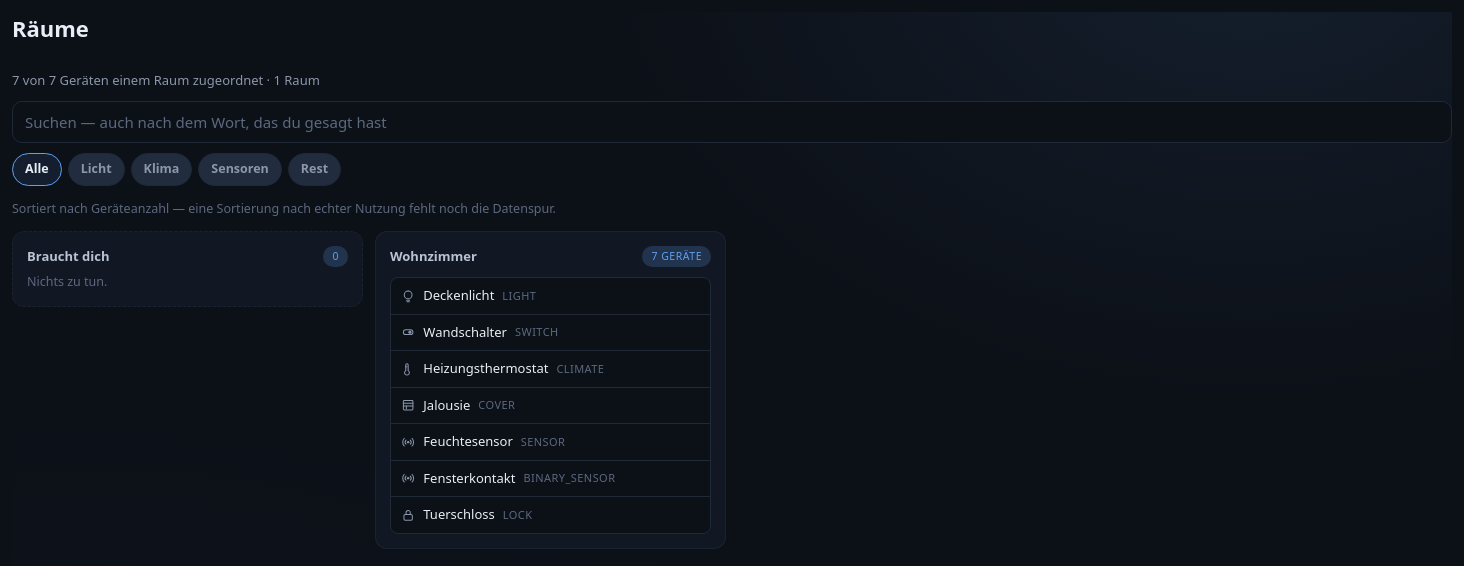
Scenario: RaeumeView — Domänen-Chips filtern die Raum-Karten (kein zweiter Baum, nur ein Prädikat) › „Licht": nur das Licht-Gerät, switch/climate/… fallen raus
Click the button with class "rooms__chip" showing "Licht" at (96, 169), box [68,153,125,186]
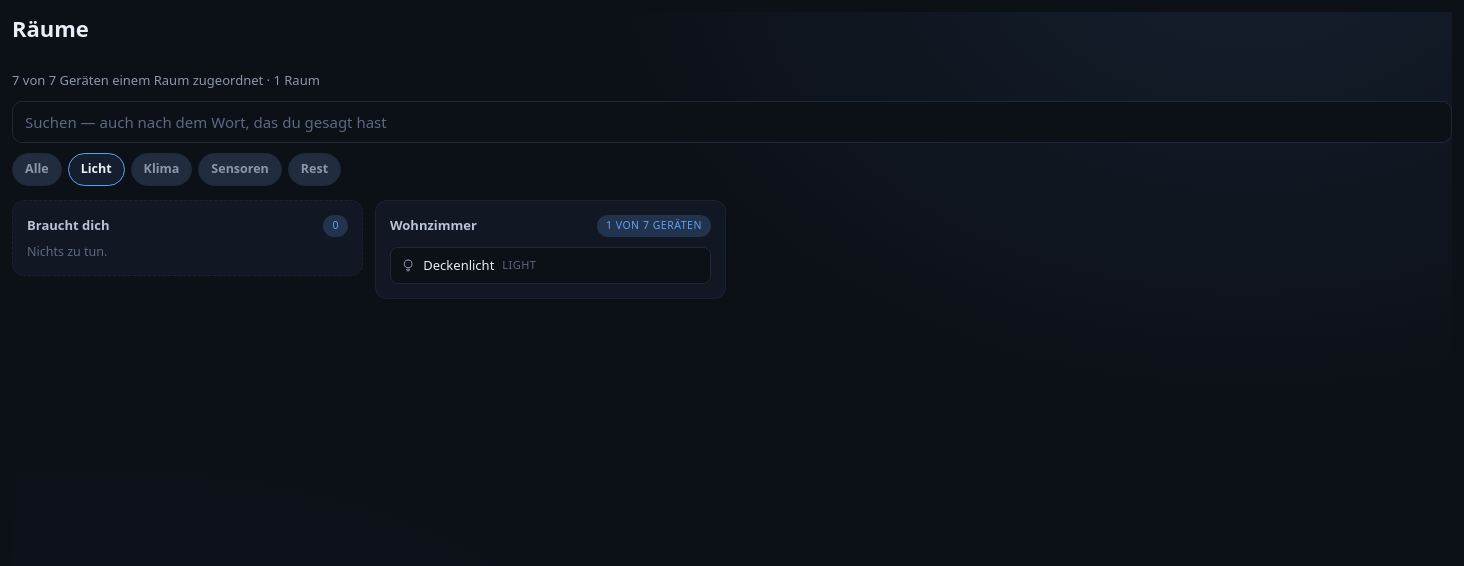
Expected: the text "Wandschalter" is gone
Expected: the text "Heizungsthermostat" is gone
Expected: the text "Jalousie" is gone
